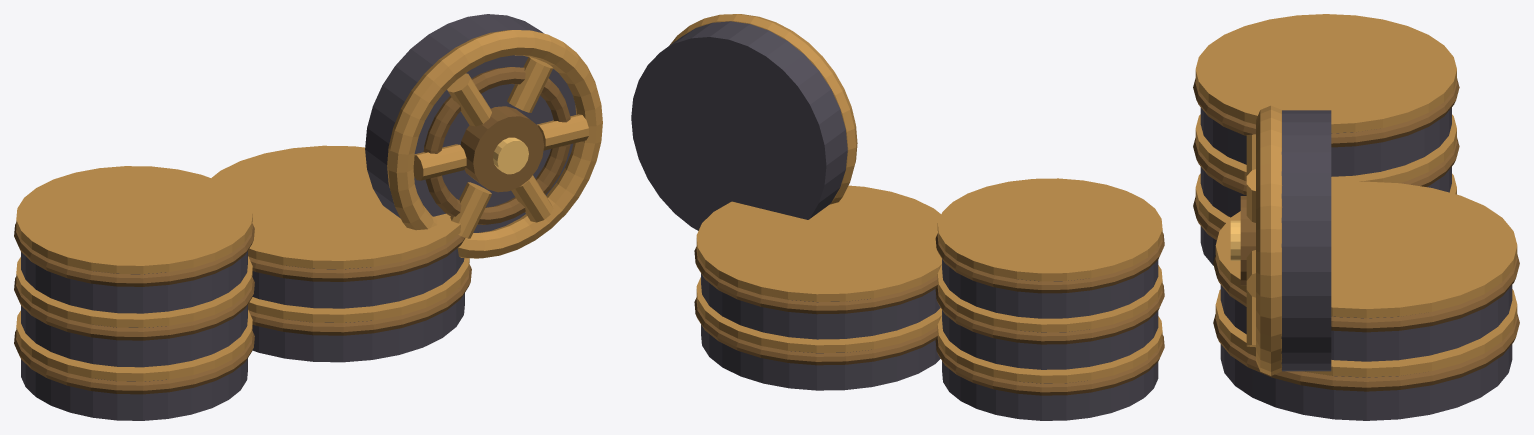
Rendered from SM_Stage3_FilmCanStack.fbx.
The picture shows the model from 3 angles, left to right: view 1: azimuth 30°, elevation 25°; view 2: azimuth 150°, elevation 25°; view 3: azimuth 270°, elevation 25°; orthographic projection. The views are drawn at different scales.
Parts seen in each view (by area): view 1: SM_Stage3_FilmCanStack; view 2: SM_Stage3_FilmCanStack; view 3: SM_Stage3_FilmCanStack.
Part boxes in pixels (left/top/right/bottom): SM_Stage3_FilmCanStack: left=14, top=14, right=602, bottom=420; SM_Stage3_FilmCanStack: left=631, top=14, right=1164, bottom=420; SM_Stage3_FilmCanStack: left=1193, top=14, right=1519, bottom=420.
Bounding box in the file's own units: 139 × 65 × 67.
